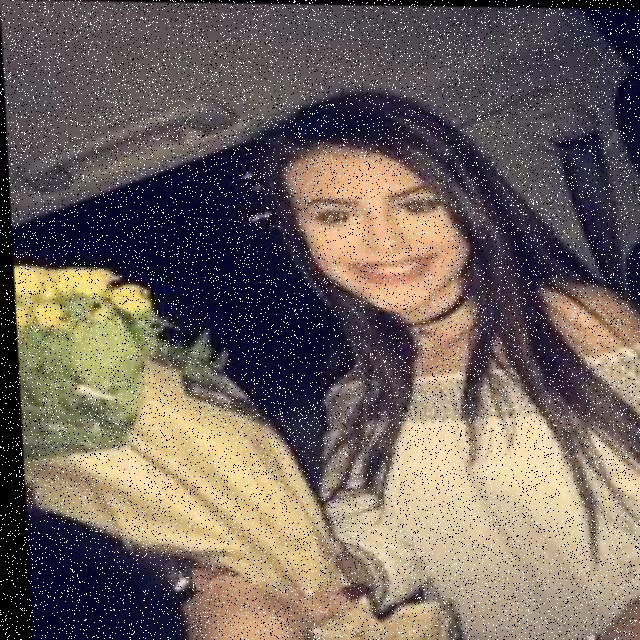noSeatbelt: (267, 247, 640, 640)
